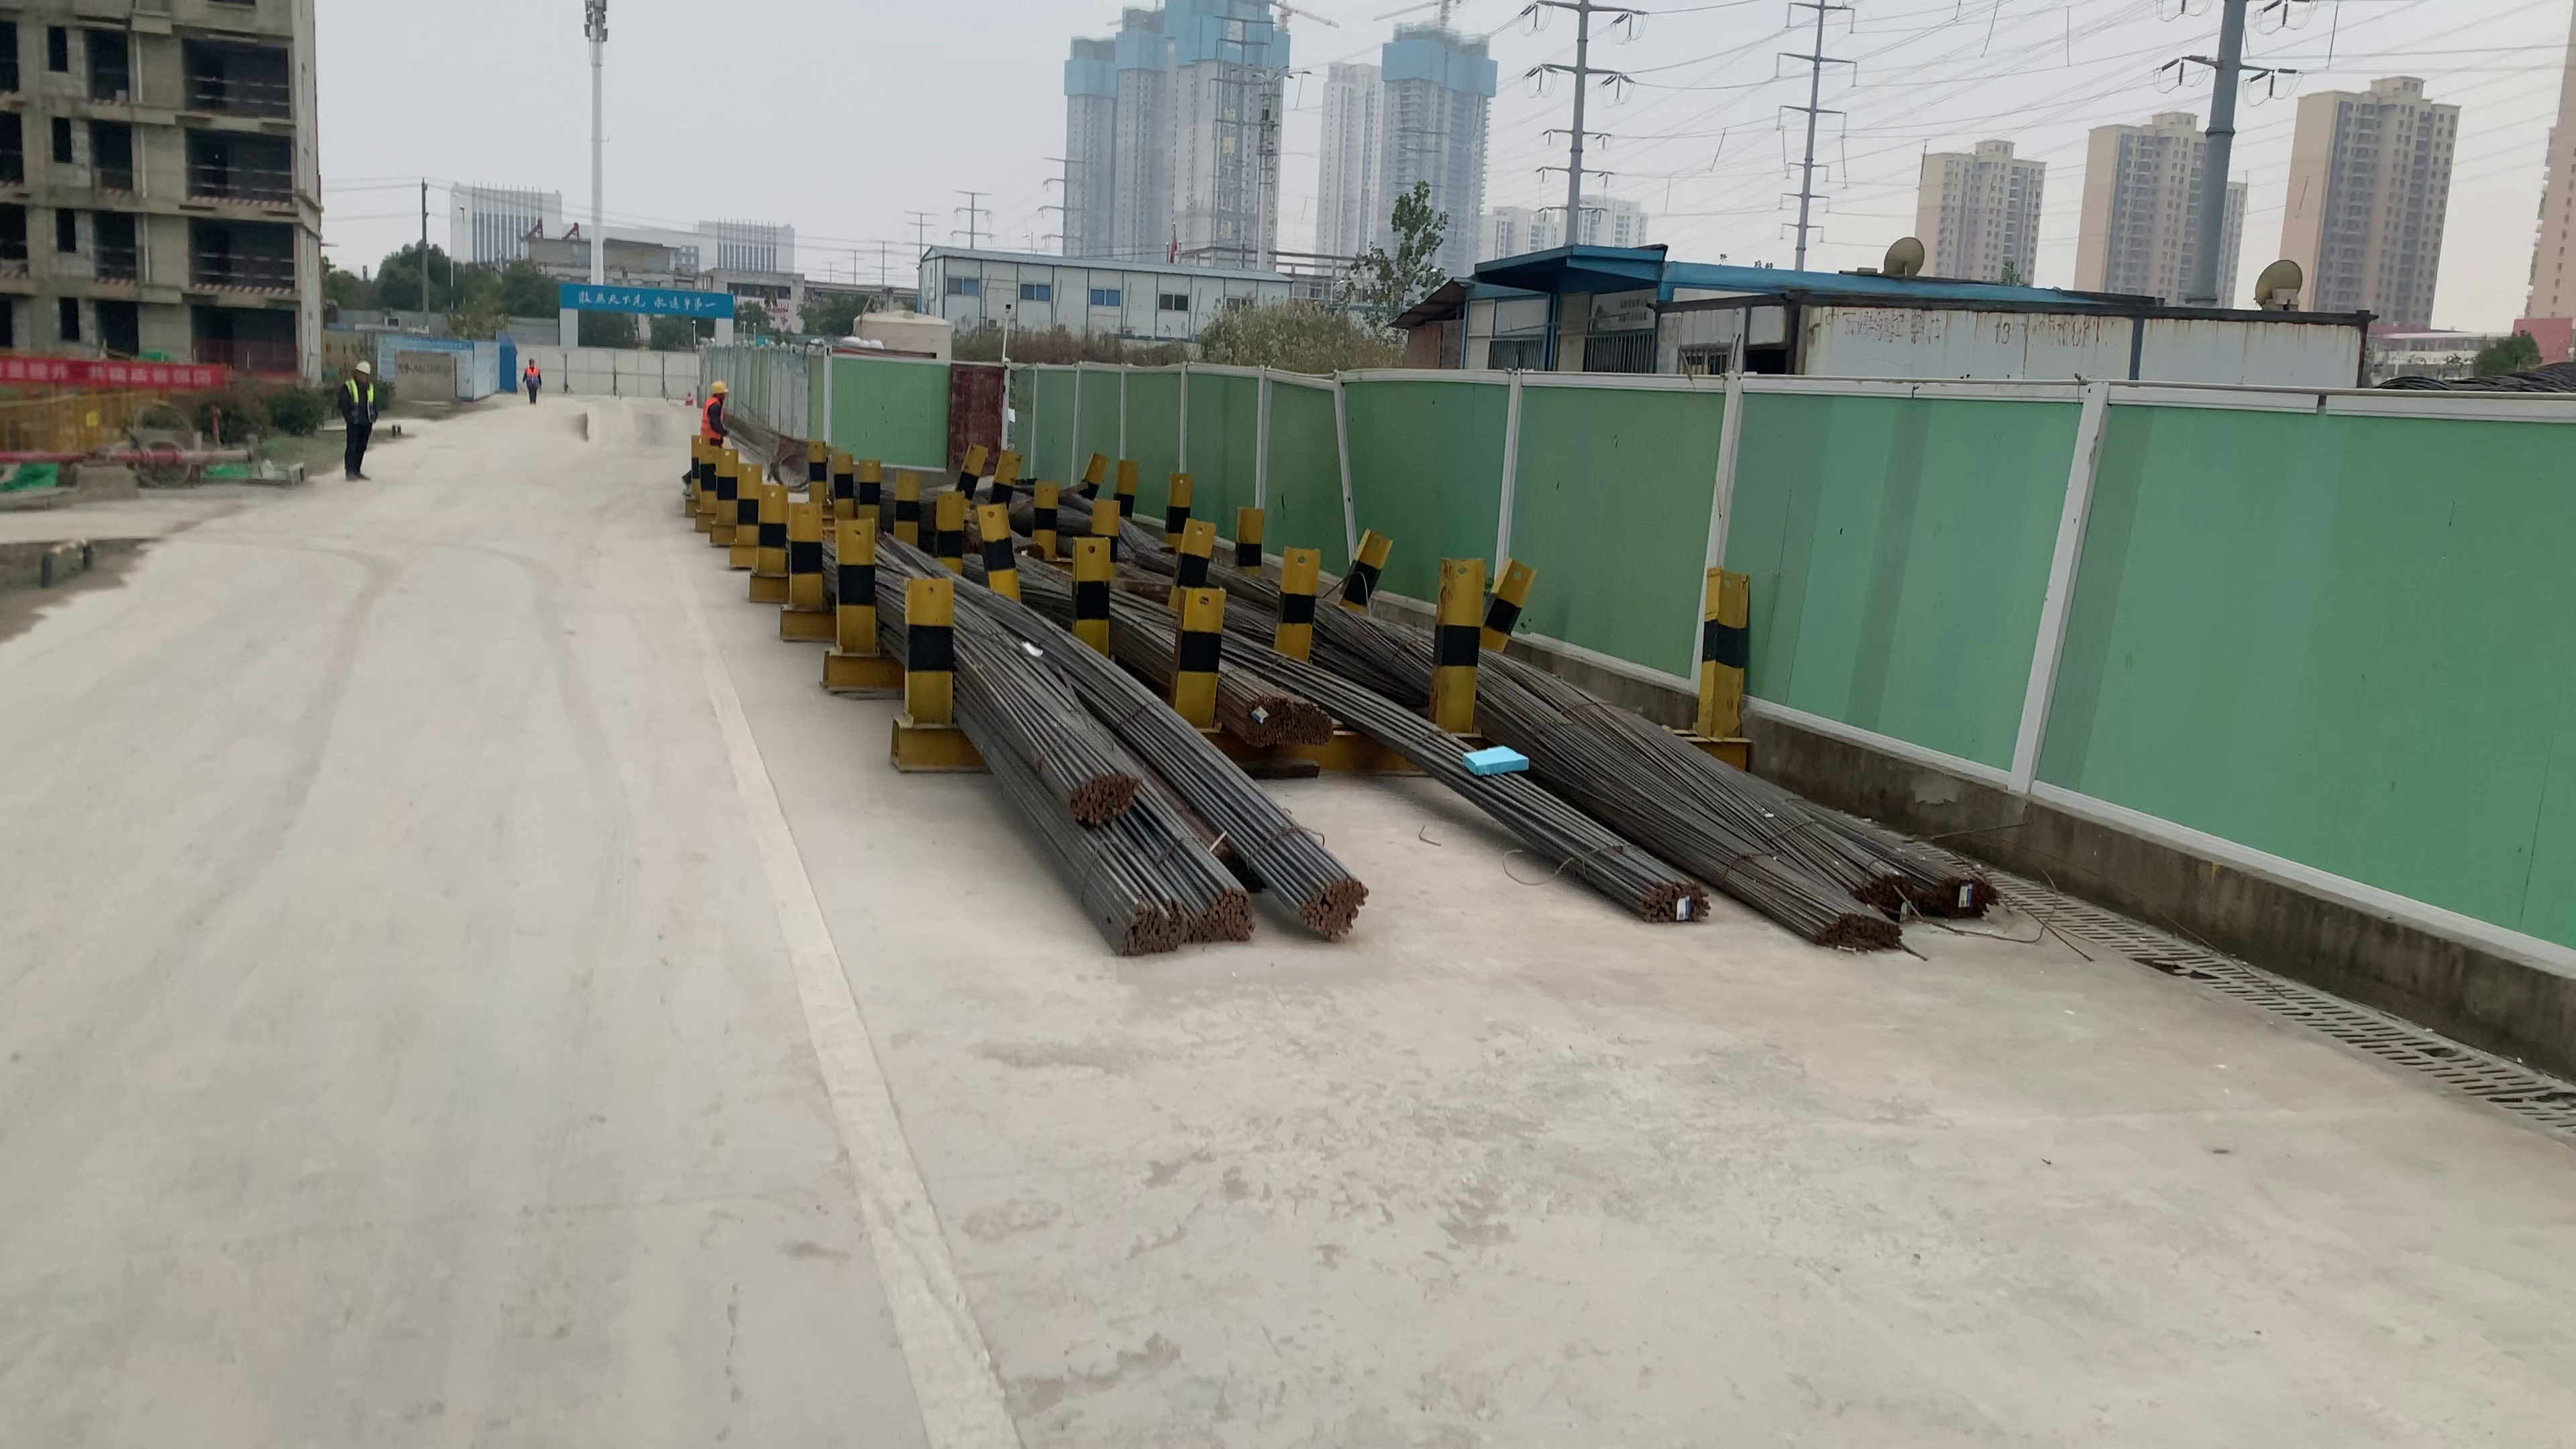rebar: (1295, 872, 1368, 936), (1923, 867, 1999, 924), (1067, 770, 1138, 826), (1115, 897, 1182, 955), (1629, 879, 1713, 922), (1813, 911, 1902, 950), (1191, 885, 1253, 939), (1231, 692, 1288, 748), (1865, 869, 1914, 915), (1292, 701, 1332, 748)
